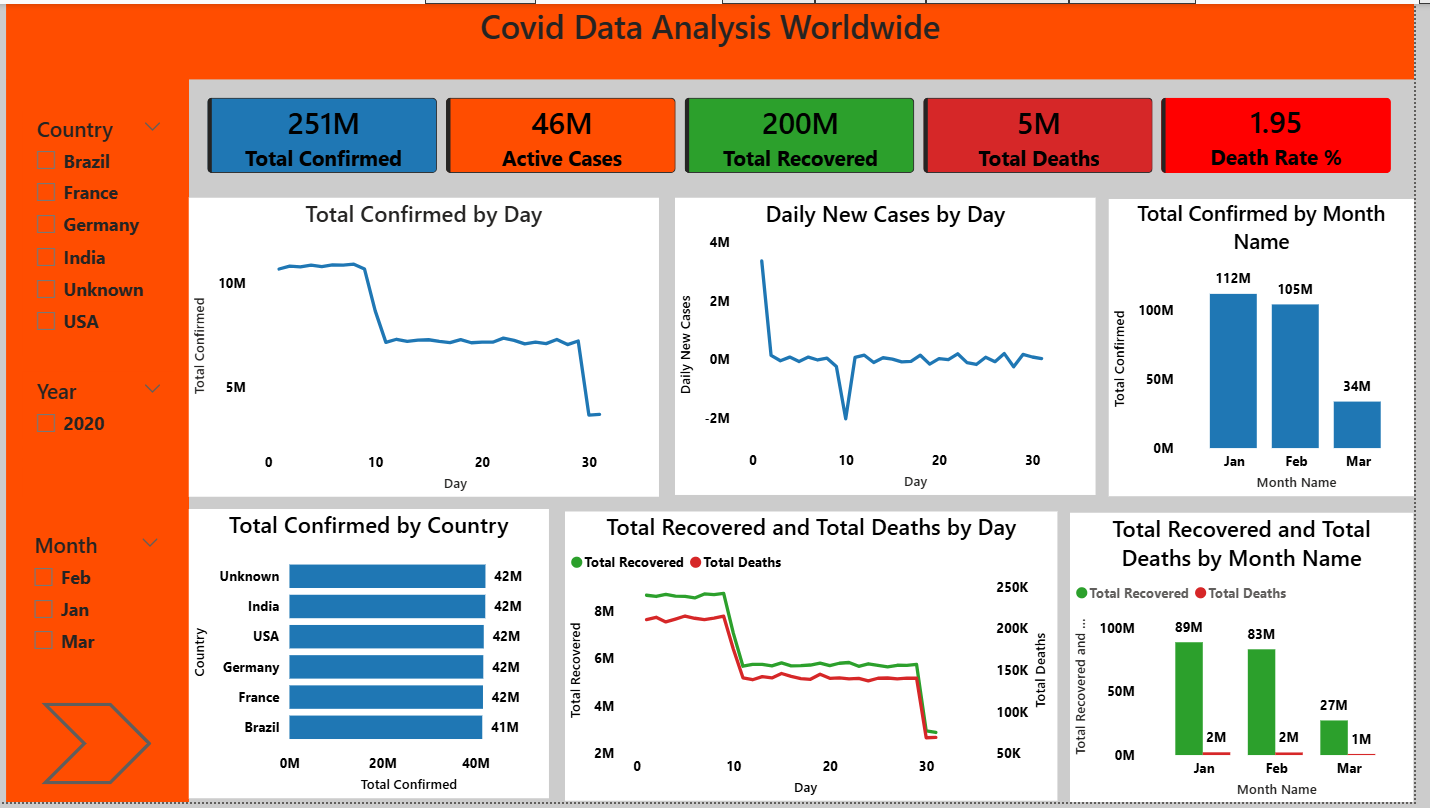

Layout of this report page (visuals, bound fields, positions):
{"tool":"powerbi","page":{"name":"Page 1","canvas":[1280,720],"ordinal":0},"visuals":[{"type":"shape","title":"Covid Data Analysis Worldwide","box":[10.1,0,1269.6,67.8],"z":0},{"type":"shape","box":[10.1,67.8,164.5,652.1],"z":1},{"type":"cardVisual","fields":{"Data":["cleaned_covid.Total Confirmed","cleaned_covid.Total Deaths","cleaned_covid.Active Cases","cleaned_covid.Death Rate %","cleaned_covid.Total Recovered"]},"box":[174.6,67.8,1105.2,102.4],"z":2},{"type":"lineChart","fields":{"Category":["dim_date.Date.Variation.Date Hierarchy.Day"],"Y":["cleaned_covid.Total Confirmed"]},"box":[174.6,174.6,424.2,269.8],"z":3},{"type":"lineChart","fields":{"Category":["dim_date.Day"],"Y":["cleaned_covid.Daily New Cases"]},"box":[613.2,174.6,379.4,268.4],"z":4},{"type":"barChart","fields":{"Category":["cleaned_covid.country"],"Y":["cleaned_covid.Total Confirmed"]},"box":[174.6,455.9,324.6,261.1],"z":5},{"type":"slicer","fields":{"Values":["cleaned_covid.country"]},"box":[24.5,95.2,137.1,222.2],"z":6},{"type":"slicer","fields":{"Values":["dim_date.Month Name"]},"box":[23.1,470.3,137.1,144.3],"z":7},{"type":"slicer","fields":{"Values":["dim_date.Year"]},"box":[24.5,331.8,137.1,112.5],"z":8},{"type":"columnChart","fields":{"Category":["dim_date.Month Name"],"Y":["cleaned_covid.Total Confirmed"]},"box":[1003.9,176.1,275.1,267.8],"z":9},{"type":"lineChart","fields":{"Category":["dim_date.Day"],"Y":["cleaned_covid.Total Recovered"],"Y2":["cleaned_covid.Total Deaths"]},"box":[513.6,457.4,444.4,261.1],"z":10},{"type":"clusteredColumnChart","fields":{"Category":["dim_date.Month Name"],"Y":["cleaned_covid.Total Recovered","cleaned_covid.Total Deaths"]},"box":[969.7,458.6,309.4,261.7],"z":11},{"type":"actionButton","box":[41.8,630.5,99.6,73.6],"z":12}]}

Visuals, with their boxes in screenshot pixels (x1, y1, x2, y2), scaled from the page's 1280x720 canvas onto the 1430x808 screenshot:
"Covid Data Analysis Worldwide" shape: <bbox>11, 0, 1429, 76</bbox>
shape: <bbox>11, 76, 195, 807</bbox>
cardVisual - cleaned_covid.Total Confirmed x cleaned_covid.Total Deaths: <bbox>195, 76, 1429, 191</bbox>
lineChart - dim_date.Date.Variation.Date Hierarchy.Day x cleaned_covid.Total Confirmed: <bbox>195, 196, 669, 499</bbox>
lineChart - dim_date.Day x cleaned_covid.Daily New Cases: <bbox>685, 196, 1109, 497</bbox>
barChart - cleaned_covid.country x cleaned_covid.Total Confirmed: <bbox>195, 512, 558, 805</bbox>
slicer - cleaned_covid.country: <bbox>27, 107, 181, 356</bbox>
slicer - dim_date.Month Name: <bbox>26, 528, 179, 690</bbox>
slicer - dim_date.Year: <bbox>27, 372, 181, 499</bbox>
columnChart - dim_date.Month Name x cleaned_covid.Total Confirmed: <bbox>1122, 198, 1429, 498</bbox>
lineChart - dim_date.Day x cleaned_covid.Total Recovered: <bbox>574, 513, 1070, 806</bbox>
clusteredColumnChart - dim_date.Month Name x cleaned_covid.Total Recovered: <bbox>1083, 515, 1429, 807</bbox>
actionButton: <bbox>47, 708, 158, 790</bbox>
